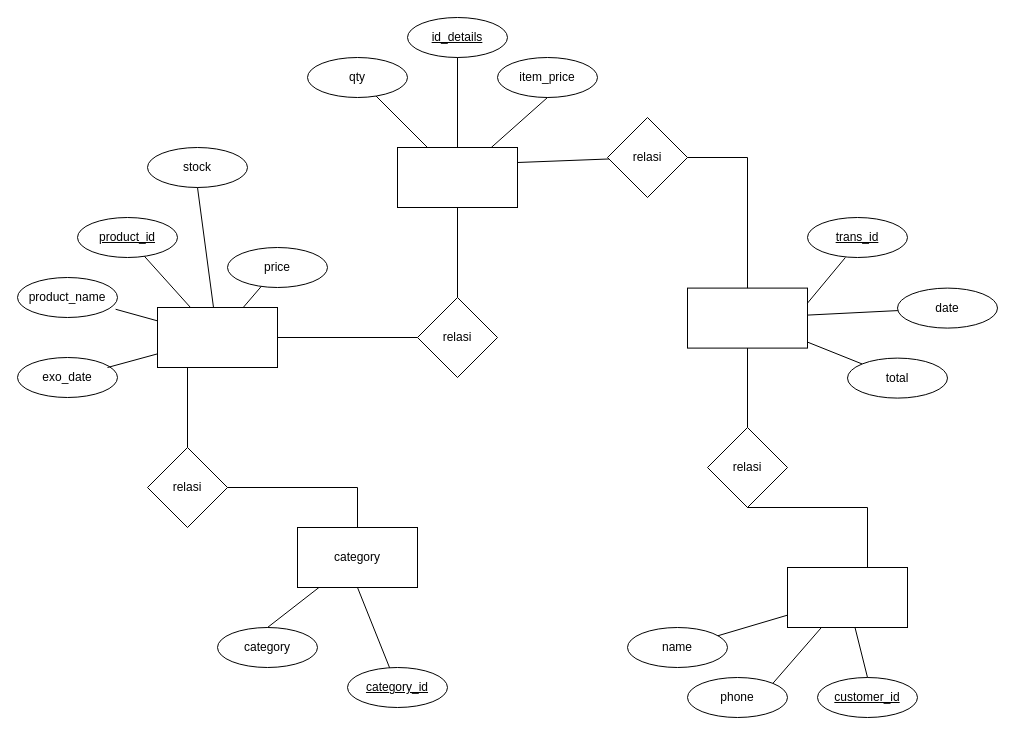
Some shapes in this 1015 by 735 pixel diagram are drawn without their labels. Here are the shapes that lost their labels. From the top down, the centre of each, then its label:
point 457,177: transaction_details
point 217,337: product
point 747,317: transaction
point 847,597: customer
